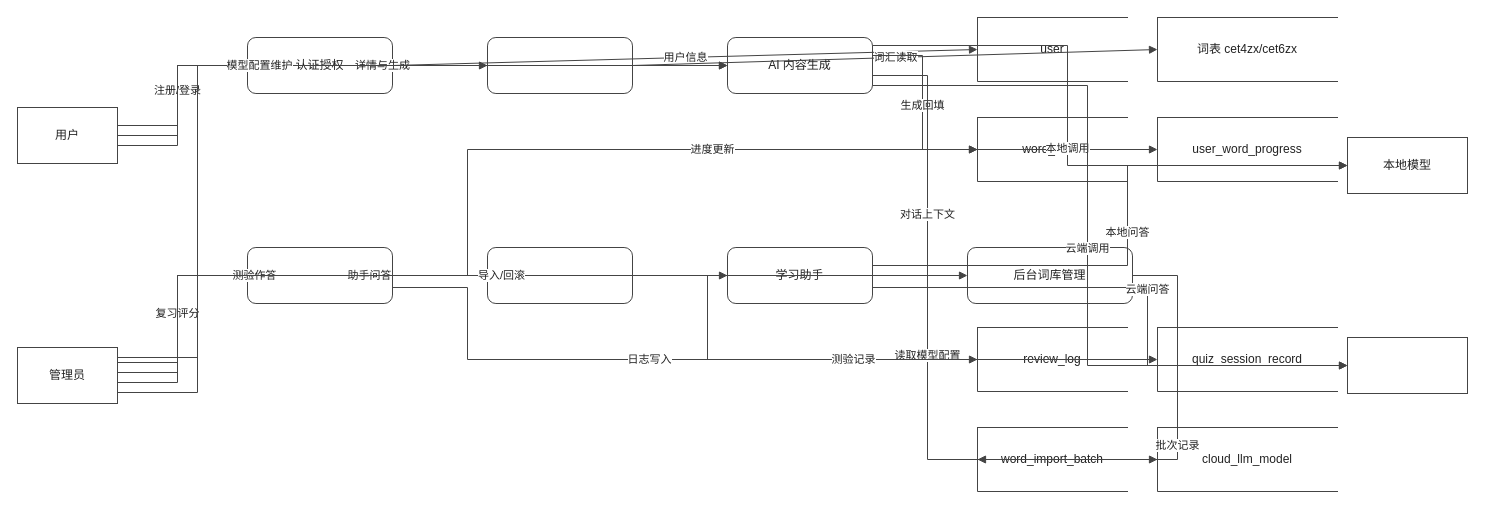
The diagram is 1485 pixels wide and 509 high, and some of its shapes have lost their labels. Here are the shapes that lost their labels. From the top down, the centre of each, then its label:
(559,65): 词库学习
(319,275): 复习调度
(559,275): 测验管理
(1407,365): 云端模型
